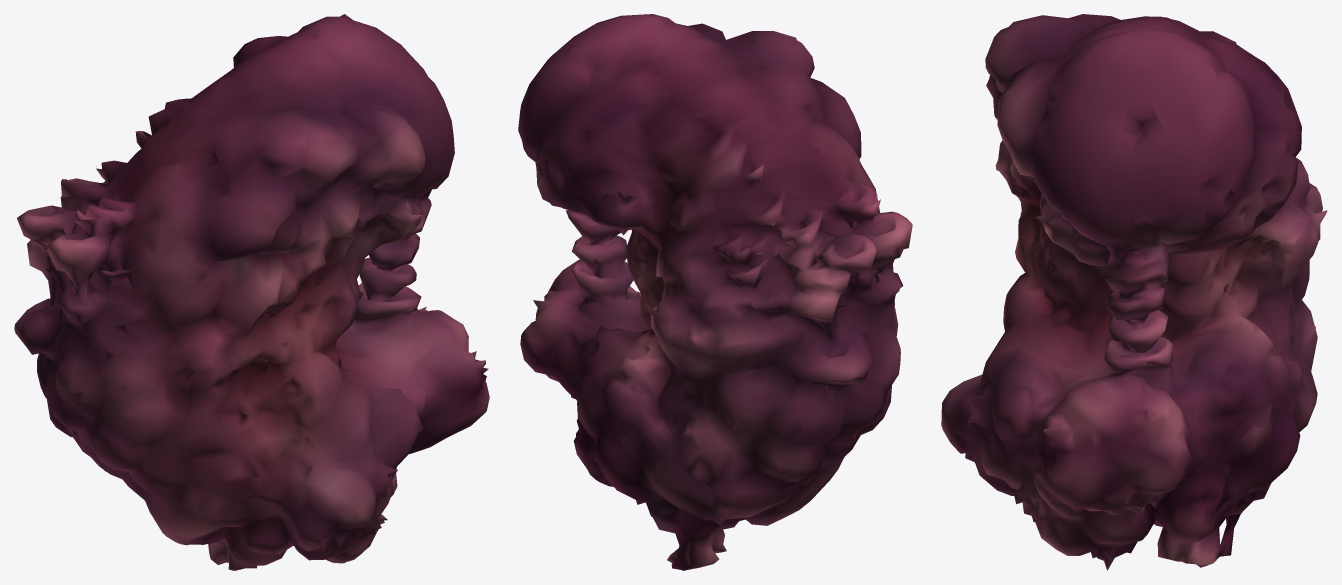
File: alienrockfungus_lopoly_01.fbx
3 renders of one model, left to right at view 1: azimuth 30°, elevation 25°; view 2: azimuth 150°, elevation 25°; view 3: azimuth 270°, elevation 25°, orthographic. The views are drawn at different scales.
Parts seen in each view (by area): view 1: Layer_1.007; view 2: Layer_1.007; view 3: Layer_1.007.
Boxes of the visible parts, left/top/right/bottom form: Layer_1.007: left=14, top=14, right=489, bottom=570; Layer_1.007: left=518, top=14, right=912, bottom=570; Layer_1.007: left=941, top=14, right=1327, bottom=570.
Size of the model in its own units: 112 by 142 by 87.12.
